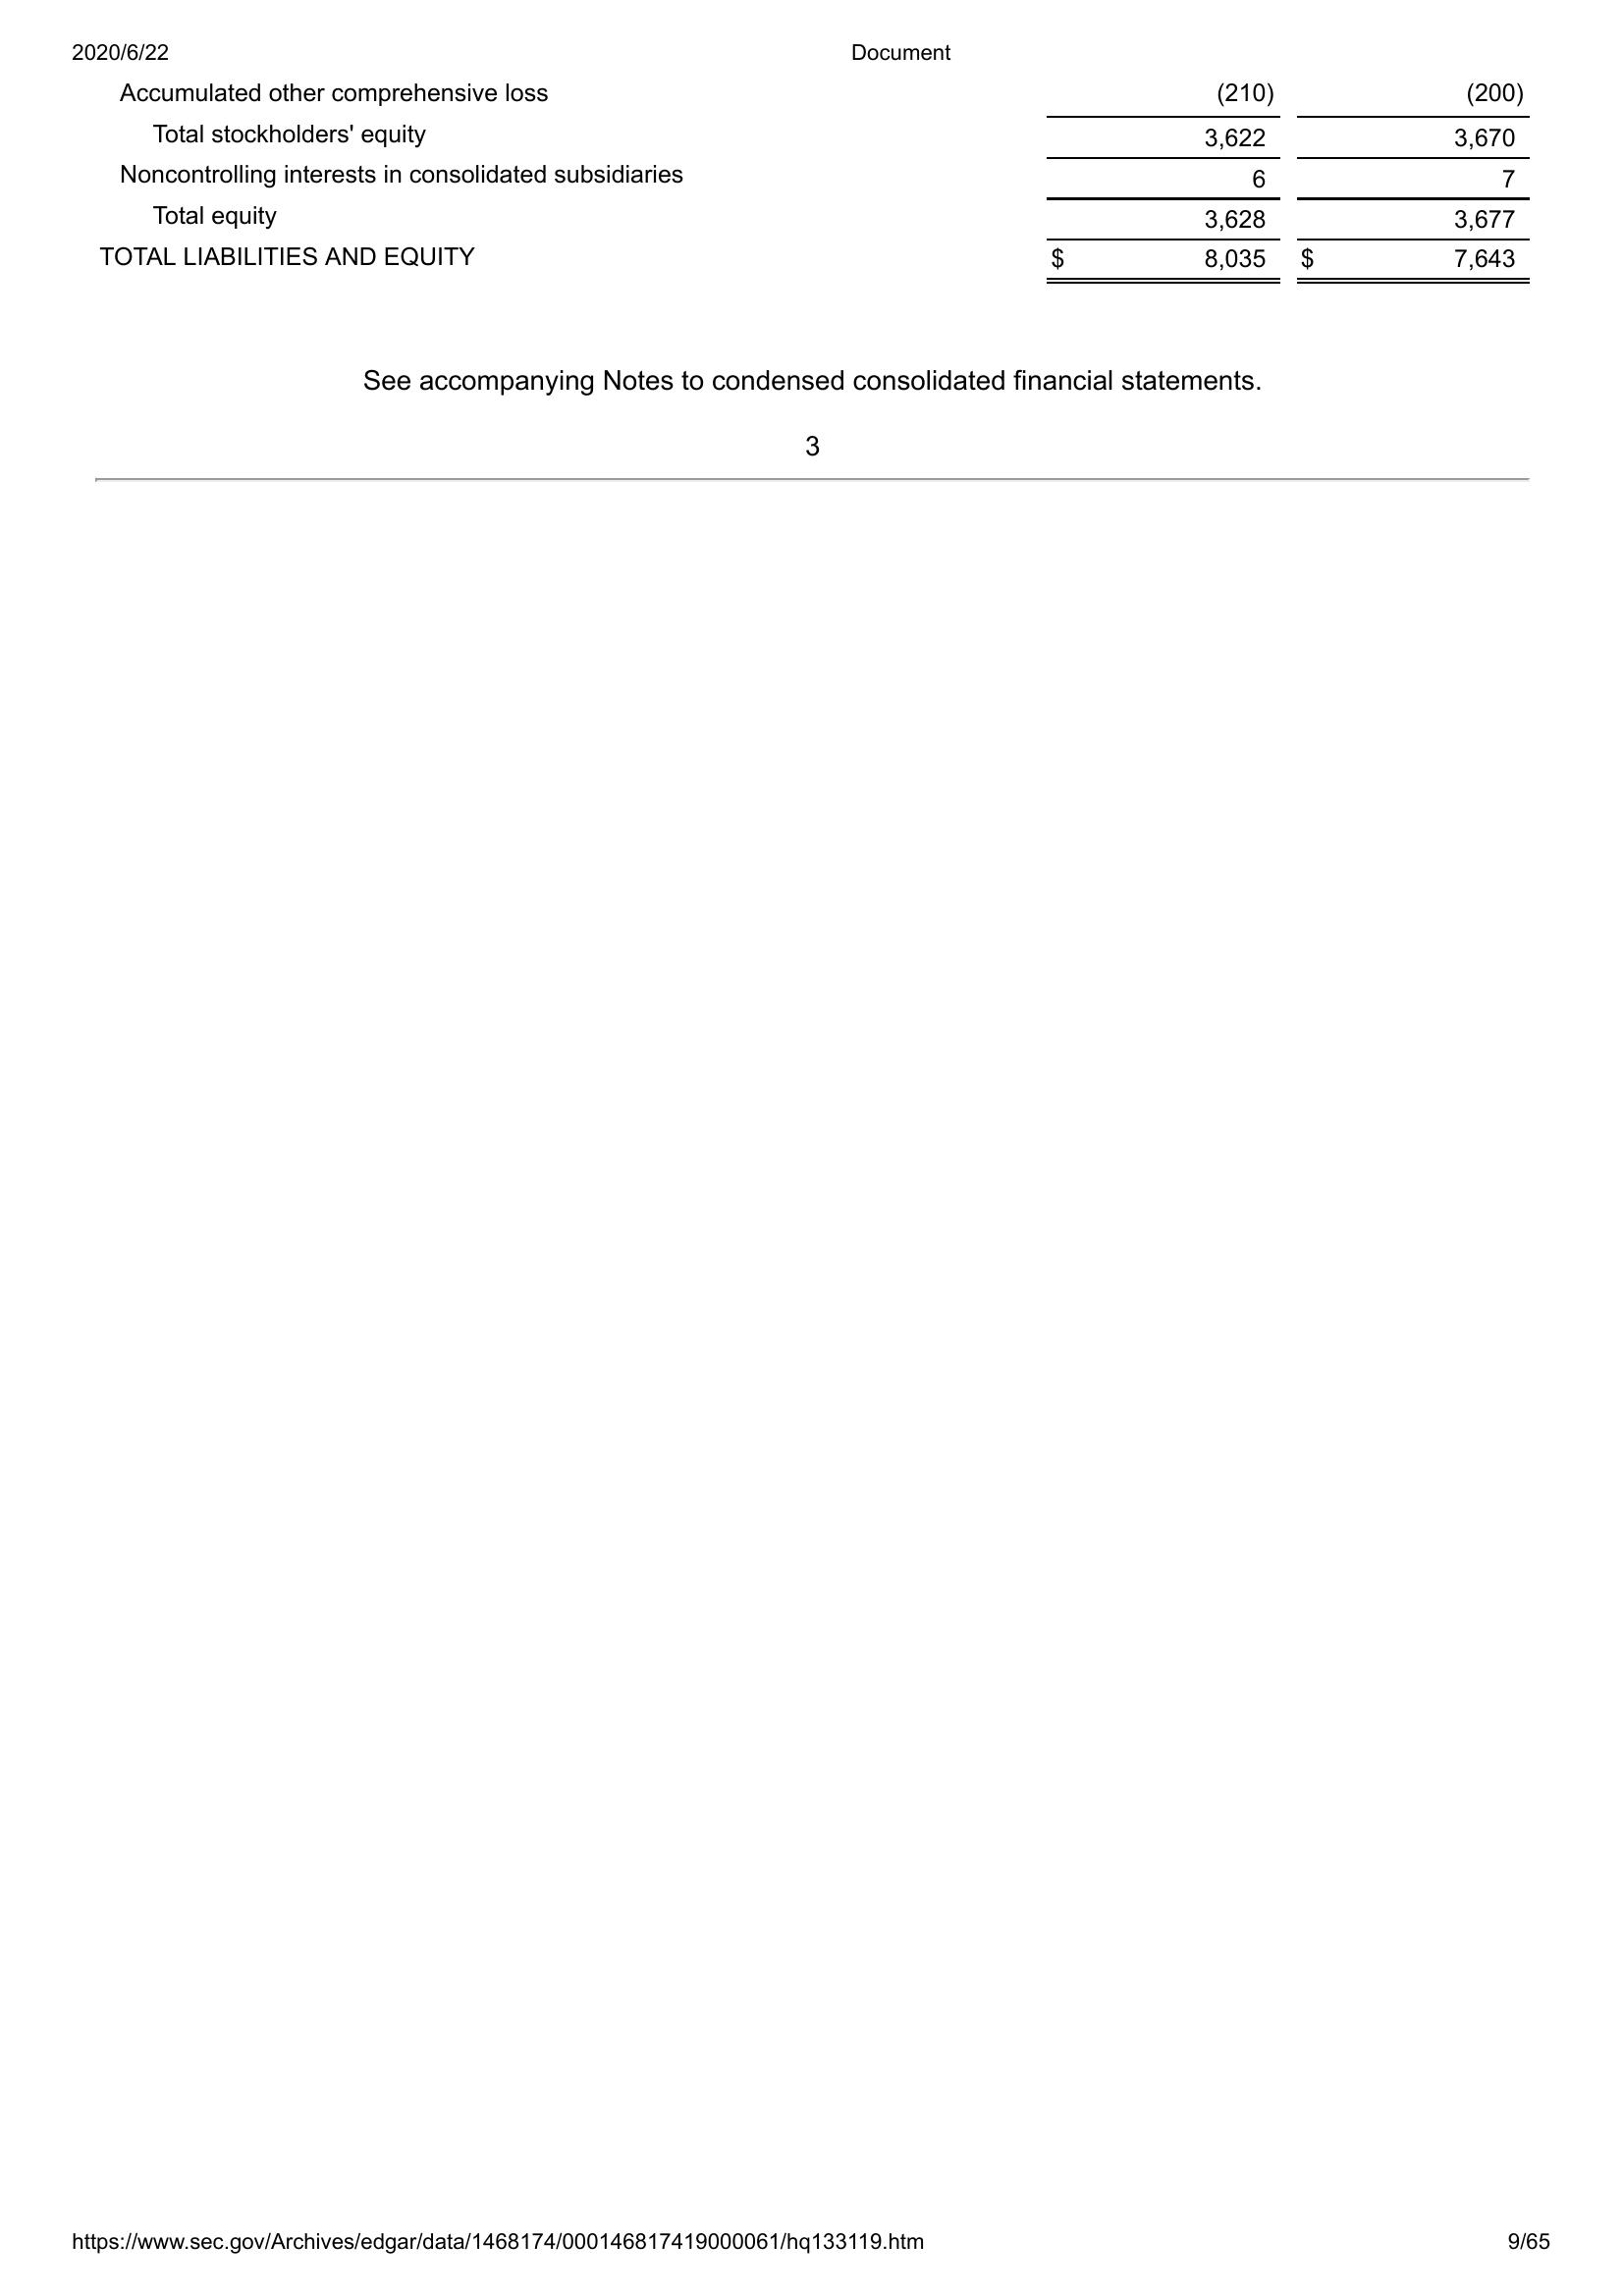table: (1029, 65, 1540, 293)
